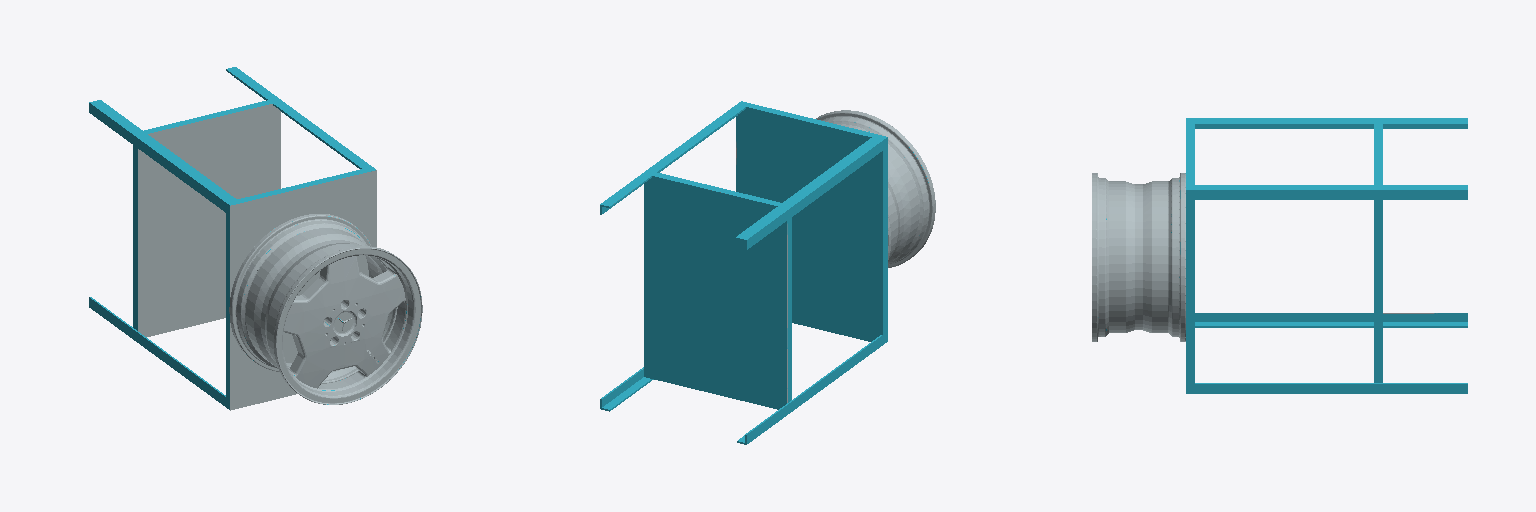
3 renders of one model, left to right at view 1: azimuth 30°, elevation 25°; view 2: azimuth 150°, elevation 25°; view 3: azimuth 270°, elevation 25°, orthographic.
Visible parts, largest first — view 1: Adjustable_Height_Work_Table:1_Untitled; view 2: Adjustable_Height_Work_Table:1_Untitled; view 3: Adjustable_Height_Work_Table:1_Untitled.
Part boxes in pixels (bbox=[...]): Adjustable_Height_Work_Table:1_Untitled: bbox=[89, 67, 422, 410]; Adjustable_Height_Work_Table:1_Untitled: bbox=[600, 101, 935, 444]; Adjustable_Height_Work_Table:1_Untitled: bbox=[1092, 118, 1467, 393].
Size of the model in its own units: 0.4604 by 0.61 by 1.02.
Materials: 1 (1 with a texture image).